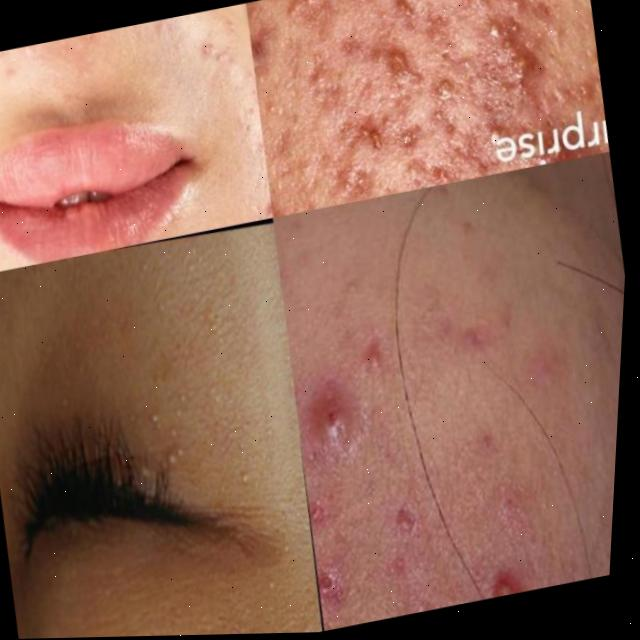Acne: (282, 315, 595, 630), (265, 0, 582, 188), (121, 333, 229, 478)
